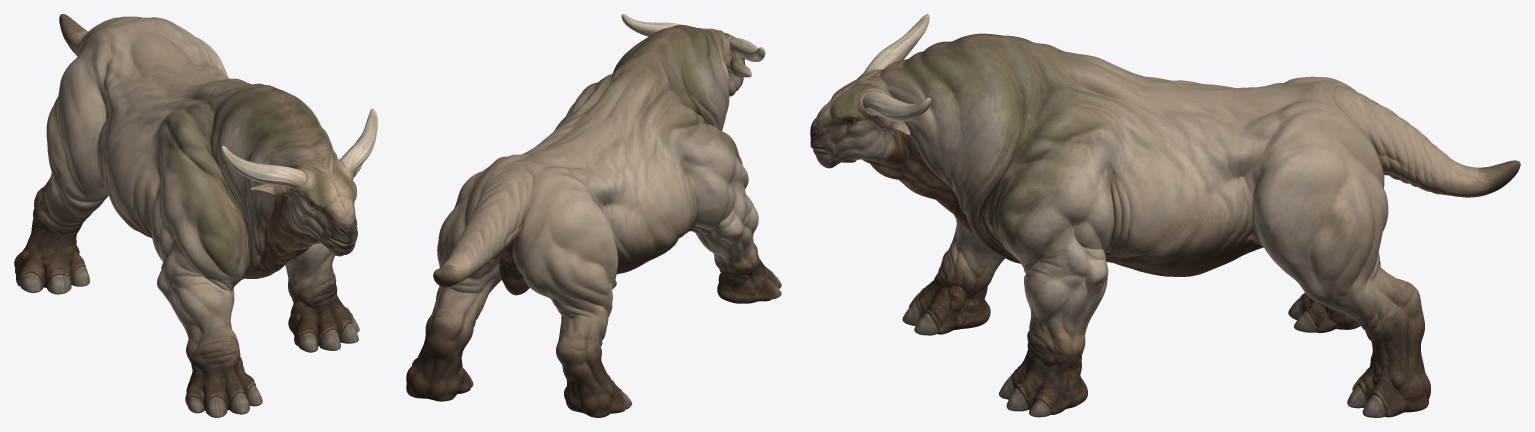
Rendered from Meshy_AI_Titanhorn_1021061157_texture.glb.
3 views of the same model, side by side, from view 1: azimuth 30°, elevation 25°; view 2: azimuth 150°, elevation 25°; view 3: azimuth 270°, elevation 25° (orthographic). The views are drawn at different scales.
Size of the model in its own units: 0.7578 by 0.9477 by 1.9.
Materials: 1 (1 with a texture image).
